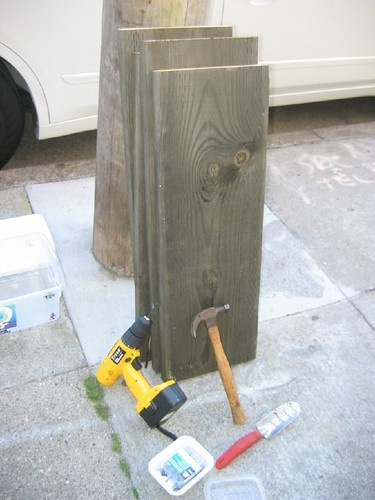hammer: (193, 303, 252, 428)
